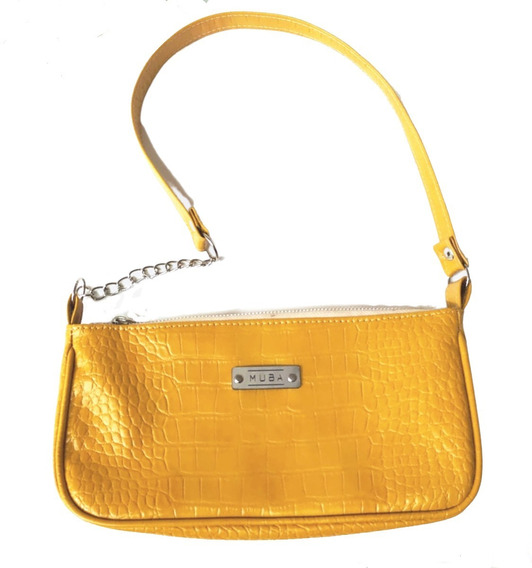cartera: (50, 9, 488, 544)
